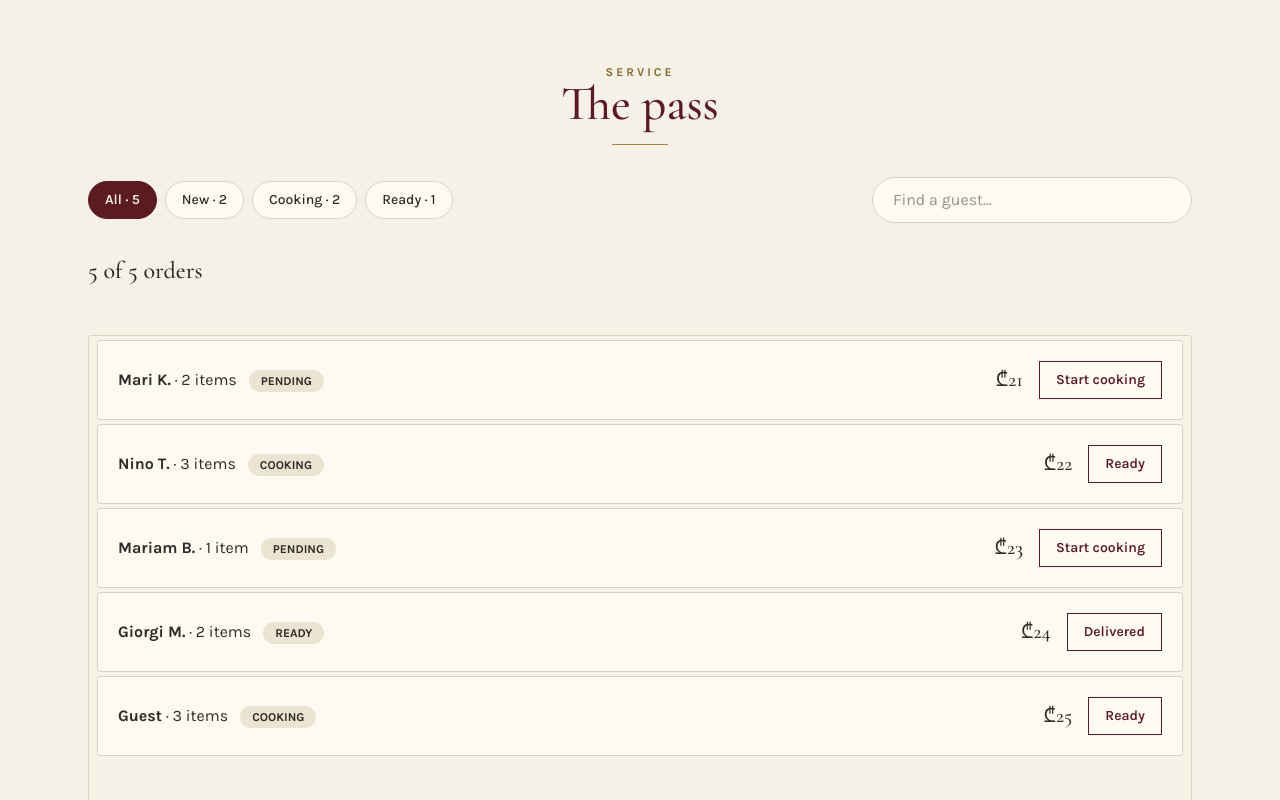
Scenario: KitchenPage › moves the order to cooking when the cook presses 'Start cooking'
Expected: the text "5 of 5 orders" is shown, x1=88 y1=256 x2=203 y2=285
Step 1. Click the button "Start cooking" next to "₾21" → (1100, 380), box x1=1039 y1=361 x2=1162 y2=399
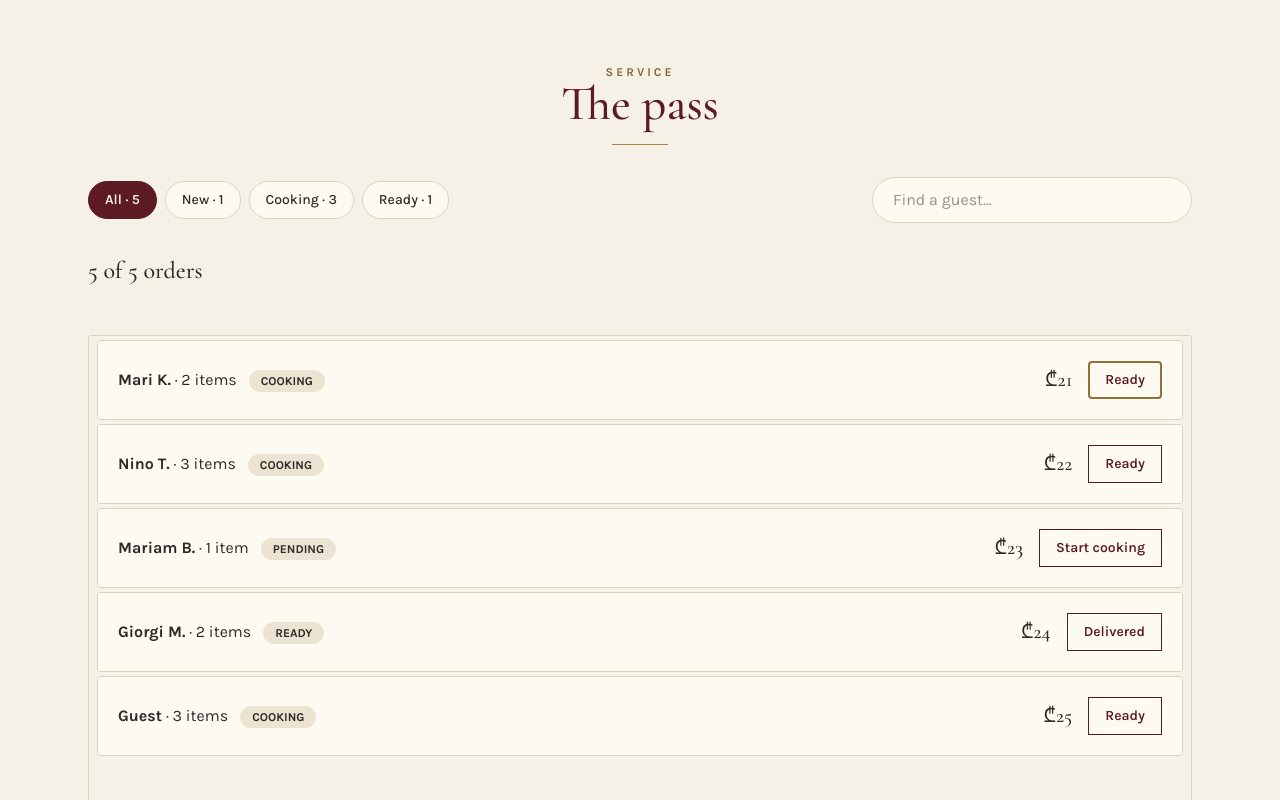
Expected: the text "COOKING" in the row of "Mari K." is shown, x1=261 y1=374 x2=313 y2=388
Expected: the button "New · 1" is shown, x1=165 y1=181 x2=241 y2=219
Expected: the button "Cooking · 3" is shown, x1=249 y1=181 x2=354 y2=219
